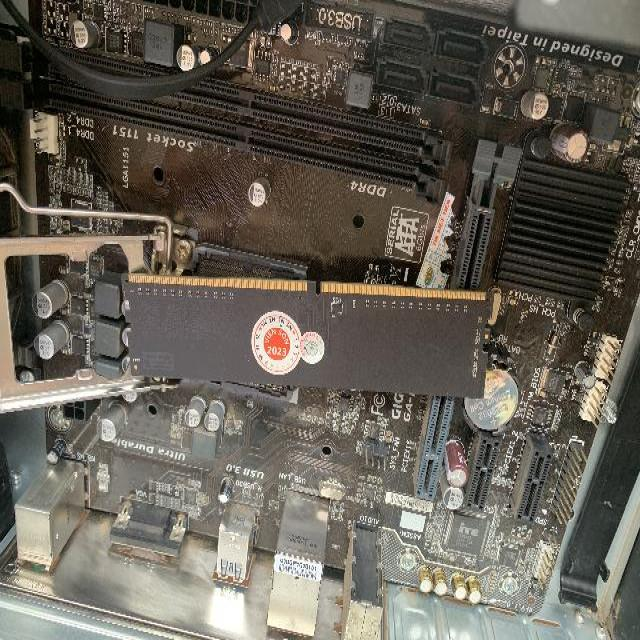Mainboard: (0, 0, 640, 639)
RAM: (121, 266, 488, 398)
